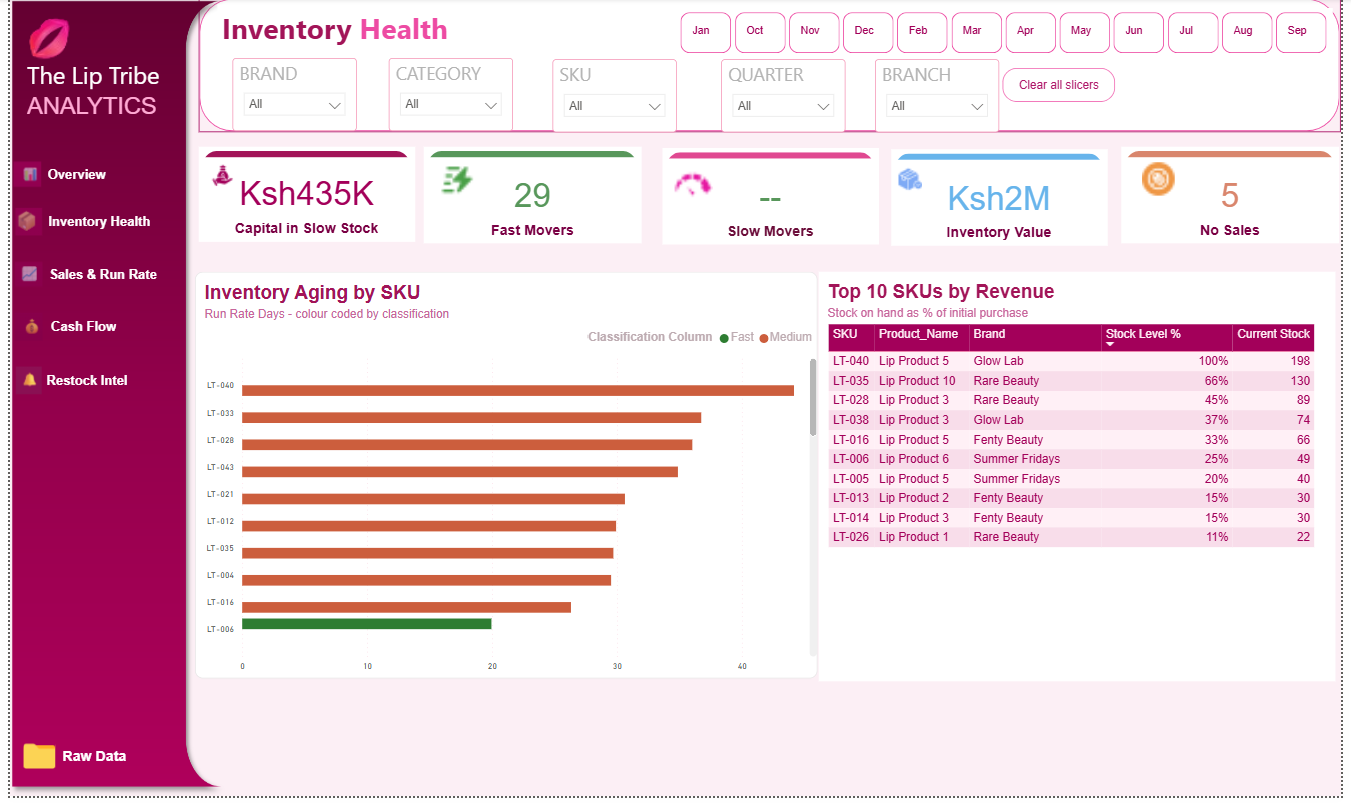

The dashboard page shown, as its layout file describes it:
{"tool":"powerbi","page":{"name":"Inventory Health","canvas":[1500,900],"ordinal":1},"visuals":[{"type":"textbox","box":[233.8,7.6,423.4,56.7],"z":0,"group":"g8"},{"type":"group","id":"g1","title":"Group 1","box":[212.5,168.4,244,107],"z":0,"group":"g6"},{"type":"shape","box":[212.5,0,1287,151.3],"z":1000},{"type":"advancedSlicerVisual","fields":{"Values":["Calendar.Month_Short"]},"box":[750.7,11.9,740,56.7],"z":1000,"group":"g8"},{"type":"group","id":"g2","title":"Group 2","box":[466.4,168.1,245.7,108.5],"z":1000,"group":"g6"},{"type":"clusteredBarChart","title":"Inventory Aging by SKU ","fields":{"Category":["Products.SKU"],"Series":["Products.Classification Column"],"Y":["Sales.Run Rate Days"]},"box":[207.9,308.8,701.6,458.6],"z":1000,"group":"g7"},{"type":"image","box":[0,0,246.1,900.3],"z":2000},{"type":"slicer","title":"BRAND","fields":{"Values":["Products.Brand"]},"box":[249.9,68.6,140.4,82.6],"z":2000,"group":"g8"},{"type":"group","id":"g3","title":"Group 3","box":[735,169.9,244,108.5],"z":2000,"group":"g6"},{"type":"textbox","title":"The Lip Tribe","box":[13.8,67.3,304.2,39.7],"z":3000},{"type":"slicer","title":"CATEGORY","fields":{"Values":["Products.Category"]},"box":[426.7,68.6,140.4,82.6],"z":3000,"group":"g8"},{"type":"group","id":"g4","title":"Group 4","box":[985.9,171.4,250.9,108.5],"z":3000,"group":"g6"},{"type":"slicer","title":"QUARTER","fields":{"Values":["Calendar.Quarter"]},"box":[801,70.2,140.4,82.6],"z":4000,"group":"g8"},{"type":"textbox","title":"ANALYTICS","box":[13.8,107,293.5,44.3],"z":4000},{"type":"group","id":"g5","title":"Group 5","box":[1252.3,168.4,245.7,108.5],"z":4000,"group":"g6"},{"type":"tableEx","title":"Top 10 SKUs by Revenue","fields":{"Values":["Products.SKU","Products.Product_Name","Products.Brand","Sales.Stock Level %","Sales.Current Stock"]},"box":[911.3,308.8,582.1,461.5],"z":4000,"group":"g7"},{"type":"image","box":[0,7.6,89.2,71.3],"z":5000},{"type":"slicer","title":"SKU","fields":{"Values":["Products.SKU"]},"box":[610.4,70.2,140.4,82.6],"z":5000,"group":"g8"},{"type":"slicer","title":"BRANCH","fields":{"Values":["Products.Branch"]},"box":[974.3,70.2,140.4,82.6],"z":6000,"group":"g8"},{"type":"actionButton","box":[0,179.6,150.3,39.5],"z":6000},{"type":"actionButton","box":[1.3,231.8,198.7,39.5],"z":7000},{"type":"actionButton","box":[1.3,291.7,168.1,39.5],"z":8000},{"type":"actionButton","box":[1.3,350.3,122.3,39.5],"z":9000},{"type":"actionButton","box":[1.3,411.4,135,39.5],"z":10000},{"type":"group","id":"g6","title":"Group 6","box":[212.5,168.1,1285.5,111.8],"z":11000},{"type":"group","id":"g7","title":"Group 7","box":[207.9,308.8,1285.5,461.6],"z":12000},{"type":"group","id":"g8","title":"Group 9","box":[10.7,7.6,1479.6,869.7],"z":13000},{"type":"actionButton","box":[1118.9,79.5,126.9,38.2],"z":14000},{"type":"cardVisual","fields":{"Data":["Products.Fast SKU Count"]},"box":[466.4,168.1,245.7,108.5],"z":14000,"group":"g2"},{"type":"cardVisual","fields":{"Data":["Sales.Capital in Slow Stock"]},"box":[212.5,168.4,244,107],"z":15000,"group":"g1"},{"type":"image","box":[466.2,180.4,74.9,50.4],"z":15000},{"type":"image","box":[222.5,183.2,33.6,33.6],"z":15002,"group":"g6"},{"type":"cardVisual","fields":{"Data":["Products.Slow SKU Count"]},"box":[735,169.9,244,108.5],"z":16000,"group":"g3"},{"type":"image","box":[741.3,183.4,59.6,53.5],"z":16000},{"type":"actionButton","box":[10.7,833.3,123.8,43.7],"z":16008,"group":"g8"},{"type":"image","box":[1262.6,180.4,64.2,47.4],"z":17000},{"type":"cardVisual","fields":{"Data":["Sales.Inventory Value"]},"box":[992.8,171.4,244,108.5],"z":20000,"group":"g4"},{"type":"image","box":[985.9,186.7,57.1,36.7],"z":21000,"group":"g4"},{"type":"cardVisual","fields":{"Data":["Products.No Sales SKU Count"]},"box":[1252.3,168.4,245.7,108.5],"z":22000,"group":"g5"}]}

Visuals, with their boxes on the page's 1500x900 design canvas (x1, y1, x2, y2). These are canvas units, not pixel positions in the 1351x803 screenshot, which may show the page scaled, cropped or inside an application window:
textbox: bbox(234, 8, 657, 64)
"Group 1" group: bbox(212, 168, 456, 275)
shape: bbox(212, 0, 1500, 151)
advancedSlicerVisual - Calendar.Month_Short: bbox(751, 12, 1491, 69)
"Group 2" group: bbox(466, 168, 712, 277)
"Inventory Aging by SKU " clusteredBarChart: bbox(208, 309, 910, 767)
image: bbox(0, 0, 246, 900)
"BRAND" slicer: bbox(250, 69, 390, 151)
"Group 3" group: bbox(735, 170, 979, 278)
"The Lip Tribe" textbox: bbox(14, 67, 318, 107)
"CATEGORY" slicer: bbox(427, 69, 567, 151)
"Group 4" group: bbox(986, 171, 1237, 280)
"QUARTER" slicer: bbox(801, 70, 941, 153)
"ANALYTICS" textbox: bbox(14, 107, 307, 151)
"Group 5" group: bbox(1252, 168, 1498, 277)
"Top 10 SKUs by Revenue" tableEx: bbox(911, 309, 1493, 770)
image: bbox(0, 8, 89, 79)
"SKU" slicer: bbox(610, 70, 751, 153)
"BRANCH" slicer: bbox(974, 70, 1115, 153)
actionButton: bbox(0, 180, 150, 219)
actionButton: bbox(1, 232, 200, 271)
actionButton: bbox(1, 292, 169, 331)
actionButton: bbox(1, 350, 124, 390)
actionButton: bbox(1, 411, 136, 451)
"Group 6" group: bbox(212, 168, 1498, 280)
"Group 7" group: bbox(208, 309, 1493, 770)
"Group 9" group: bbox(11, 8, 1490, 877)
actionButton: bbox(1119, 80, 1246, 118)
cardVisual - Products.Fast SKU Count: bbox(466, 168, 712, 277)
cardVisual - Sales.Capital in Slow Stock: bbox(212, 168, 456, 275)
image: bbox(466, 180, 541, 231)
image: bbox(222, 183, 256, 217)
cardVisual - Products.Slow SKU Count: bbox(735, 170, 979, 278)
image: bbox(741, 183, 801, 237)
actionButton: bbox(11, 833, 134, 877)
image: bbox(1263, 180, 1327, 228)
cardVisual - Sales.Inventory Value: bbox(993, 171, 1237, 280)
image: bbox(986, 187, 1043, 223)
cardVisual - Products.No Sales SKU Count: bbox(1252, 168, 1498, 277)
